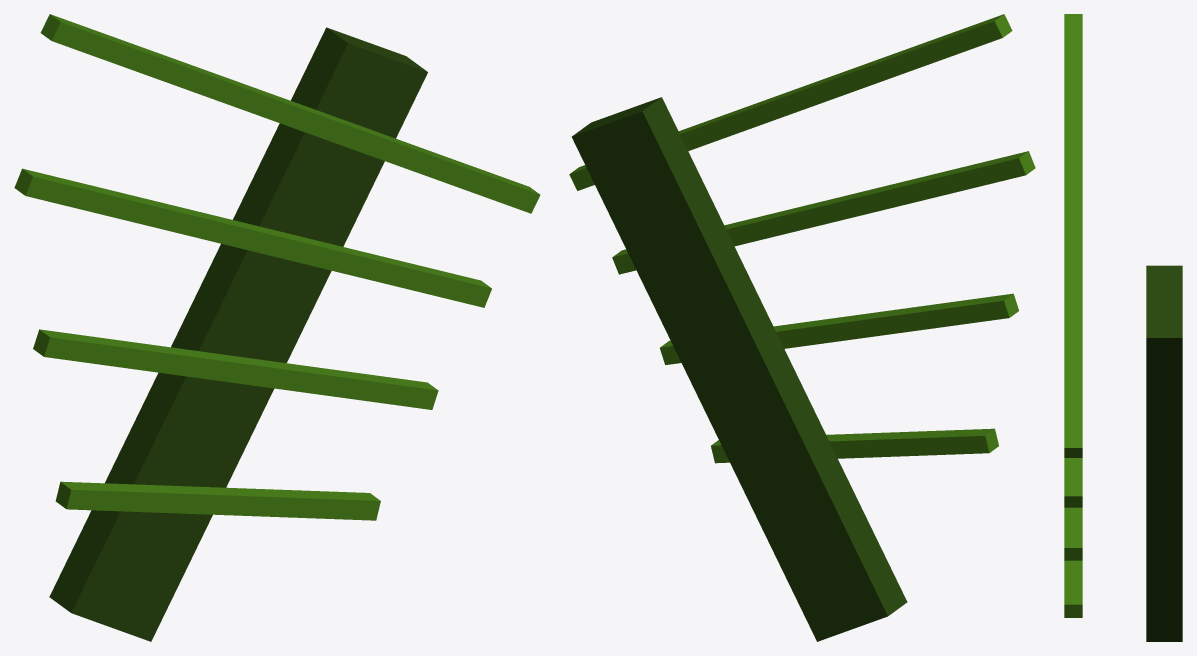
Rendered from DimensionSlash.fbx.
3 views of the same model, side by side, from view 1: azimuth 30°, elevation 25°; view 2: azimuth 150°, elevation 25°; view 3: azimuth 270°, elevation 25° (orthographic). The views are drawn at different scales.
Visible parts, largest first — view 1: Cube.011, Cube.008, Cube.007, Cube.009, Cube.010; view 2: Cube.011, Cube.008, Cube.007, Cube.009, Cube.010; view 3: Cube.011, Cube.008, Cube.010, Cube.009, Cube.007.
Part boxes in pixels (x1=…): Cube.011: x1=49, y1=27, x2=427, y2=641; Cube.008: x1=40, y1=14, x2=540, y2=213; Cube.007: x1=14, y1=168, x2=491, y2=307; Cube.009: x1=33, y1=329, x2=438, y2=409; Cube.010: x1=55, y1=481, x2=380, y2=520; Cube.011: x1=572, y1=97, x2=907, y2=641; Cube.008: x1=569, y1=14, x2=1012, y2=190; Cube.007: x1=612, y1=151, x2=1035, y2=274; Cube.009: x1=660, y1=293, x2=1018, y2=364; Cube.010: x1=711, y1=428, x2=998, y2=463; Cube.011: x1=1146, y1=265, x2=1182, y2=641; Cube.008: x1=1064, y1=14, x2=1082, y2=457; Cube.010: x1=1064, y1=560, x2=1082, y2=617; Cube.009: x1=1064, y1=507, x2=1082, y2=560; Cube.007: x1=1064, y1=458, x2=1082, y2=507.
Size of the model in its own units: 136 by 174 by 32.5.
